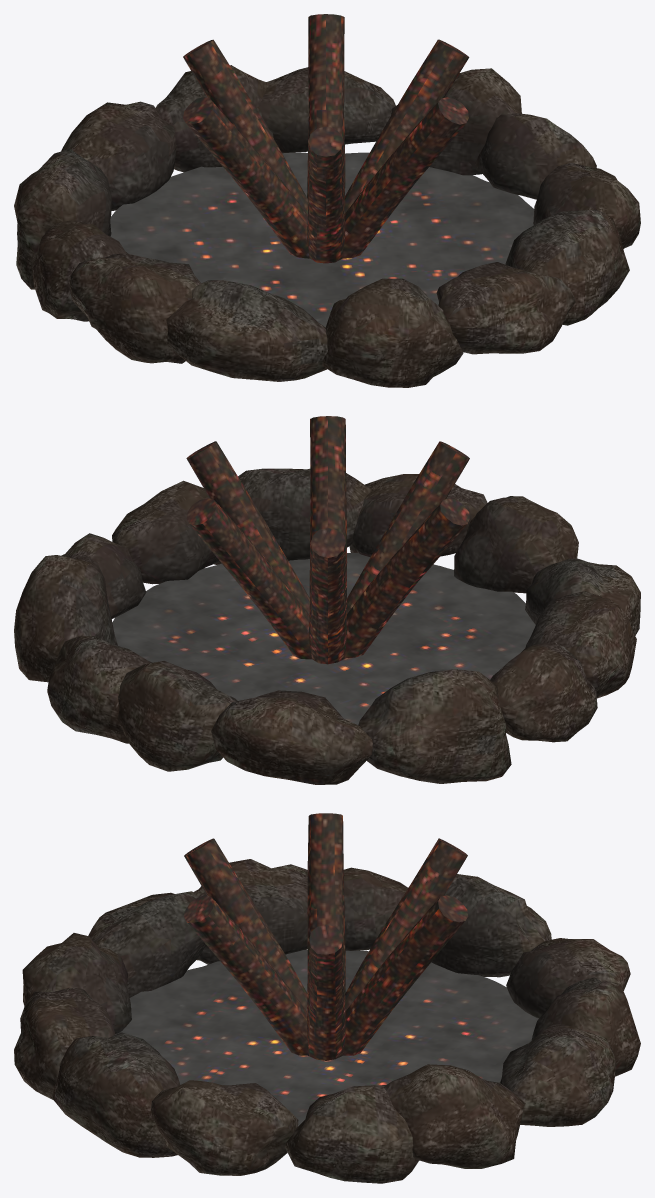
File: firepit.glb
3 views of the same model, one above another, from view 1: azimuth 30°, elevation 25°; view 2: azimuth 150°, elevation 25°; view 3: azimuth 270°, elevation 25° (orthographic).
Parts seen in each view (by area): view 1: firepit; view 2: firepit; view 3: firepit.
Part boxes in pixels (left/top/right/bottom): firepit: left=14, top=14, right=640, bottom=387; firepit: left=14, top=416, right=640, bottom=784; firepit: left=14, top=813, right=640, bottom=1183.
Bounding box in the file's own units: 2.41 × 0.883 × 2.45.
1 material, 1 textured.
